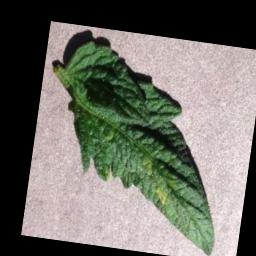Leaf_Mold: (152, 183, 170, 207)
